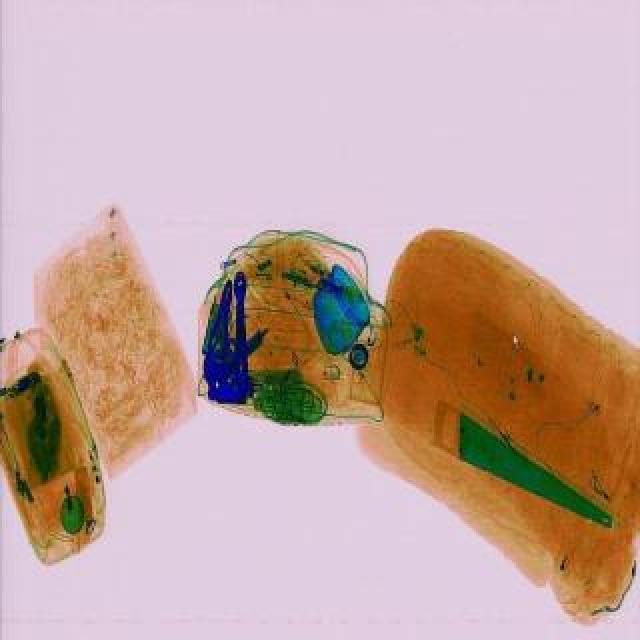scissors: (228, 268, 256, 400)
wrench: (202, 276, 238, 364)
